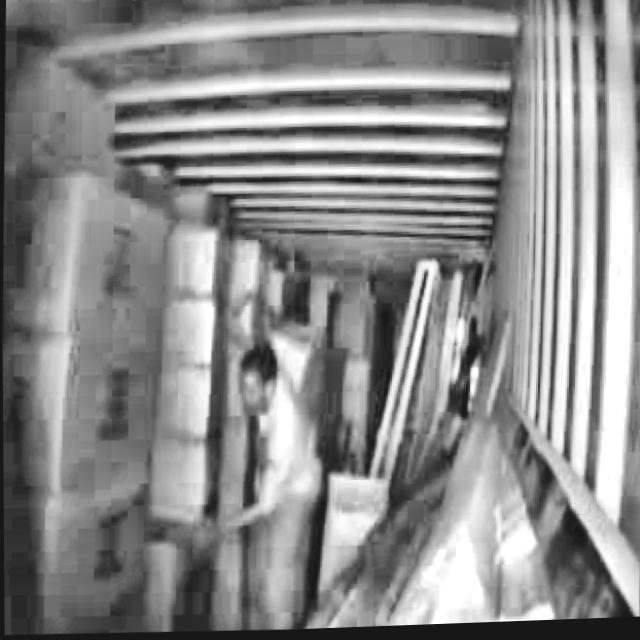burglary: (184, 329, 334, 635)
